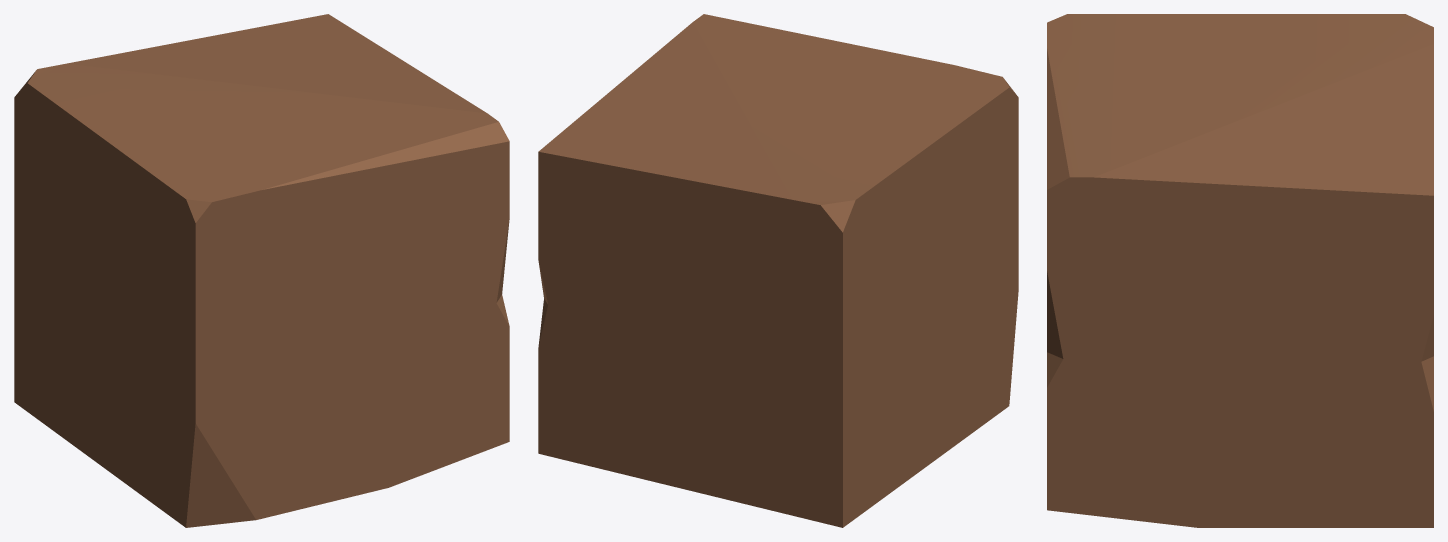
Rendered from Monument_013.FBX.
3 views of the same model, side by side, from view 1: azimuth 30°, elevation 25°; view 2: azimuth 150°, elevation 25°; view 3: azimuth 270°, elevation 25° (orthographic). The views are drawn at different scales.
Visible parts, largest first — view 1: Monument_013; view 2: Monument_013; view 3: Monument_013.
Boxes of the visible parts, box(x1,y1,x2,y2) form: Monument_013: box(14, 14, 509, 527); Monument_013: box(538, 14, 1018, 527); Monument_013: box(1047, 14, 1433, 527).
Bounding box in the file's own units: 78.74 × 78.74 × 78.74.
